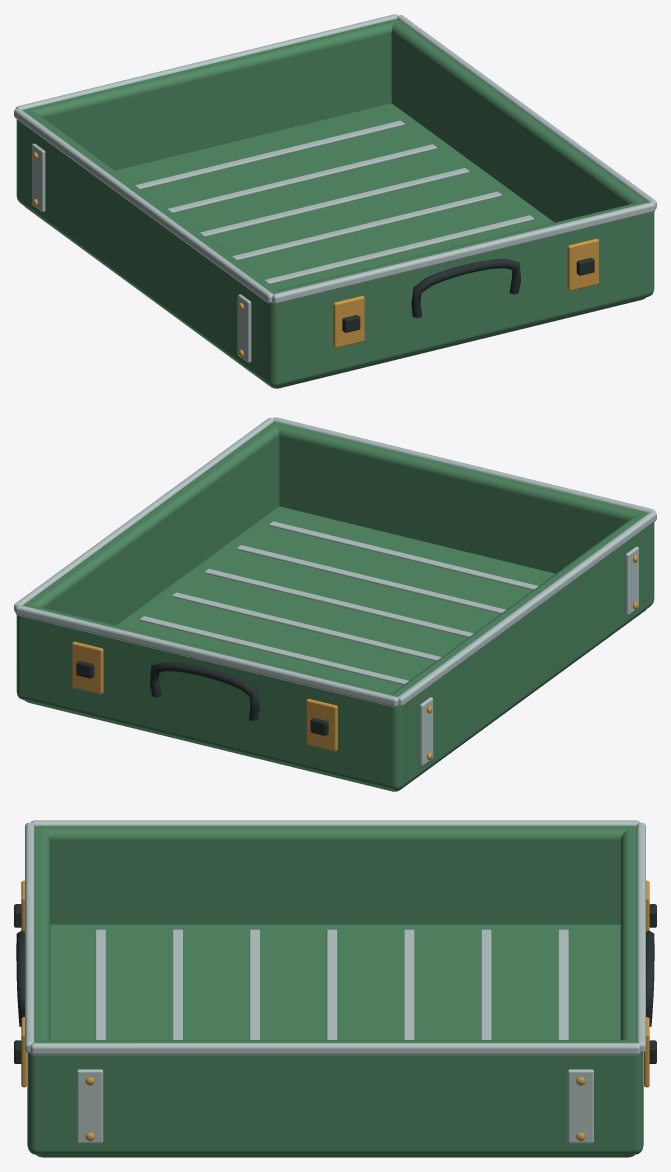
Rendered from metal-toolbox-light.glb.
The picture shows the model from 3 angles, top to bottom: view 1: azimuth 30°, elevation 25°; view 2: azimuth 150°, elevation 25°; view 3: azimuth 270°, elevation 25°; orthographic projection. The views are drawn at different scales.
Visible parts, largest first — view 1: green, steel, brass, dark; view 2: green, steel, brass, dark; view 3: green, steel, dark, brass.
Part boxes in pixels (x1,y1,x2,y2): green: (16, 19, 654, 388); steel: (14, 14, 656, 362); brass: (32, 152, 598, 356); dark: (342, 257, 594, 332); green: (16, 422, 654, 791); steel: (14, 417, 656, 765); brass: (72, 555, 638, 759); dark: (76, 660, 328, 735); green: (27, 826, 643, 1157); steel: (25, 820, 645, 1143); dark: (14, 904, 656, 1063); brass: (21, 880, 649, 1141).
Bounding box in the file's own units: 1.56 × 0.372 × 1.83.
